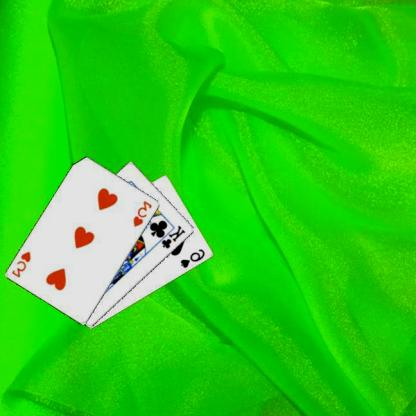3H: (132, 198, 156, 228), (11, 249, 34, 278)
6S: (180, 246, 208, 270)
KC: (155, 222, 189, 250)
